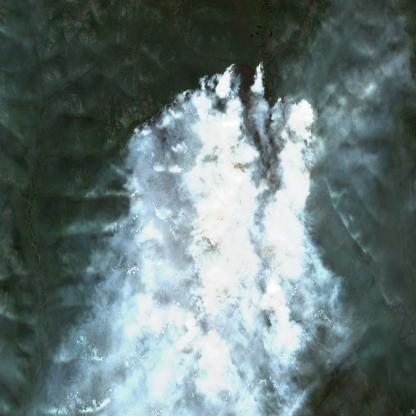fire: (126, 54, 323, 340)
